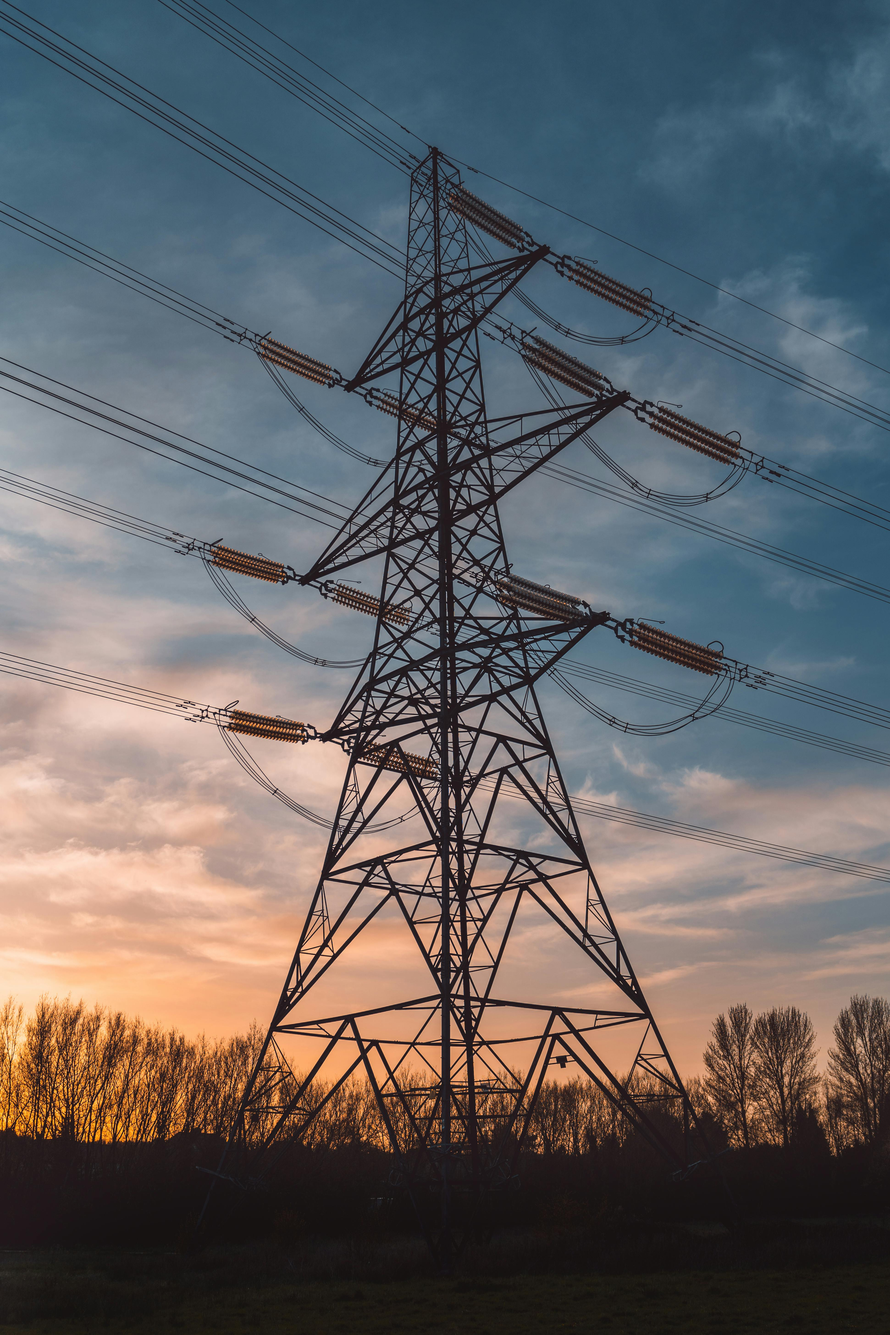insulator: (550, 236, 660, 327), (634, 389, 751, 469), (511, 322, 609, 403), (628, 608, 733, 678), (493, 562, 596, 629), (444, 177, 533, 252), (261, 325, 336, 395), (200, 533, 294, 588), (359, 376, 438, 438), (336, 736, 440, 782), (215, 701, 316, 747), (319, 576, 408, 628)
